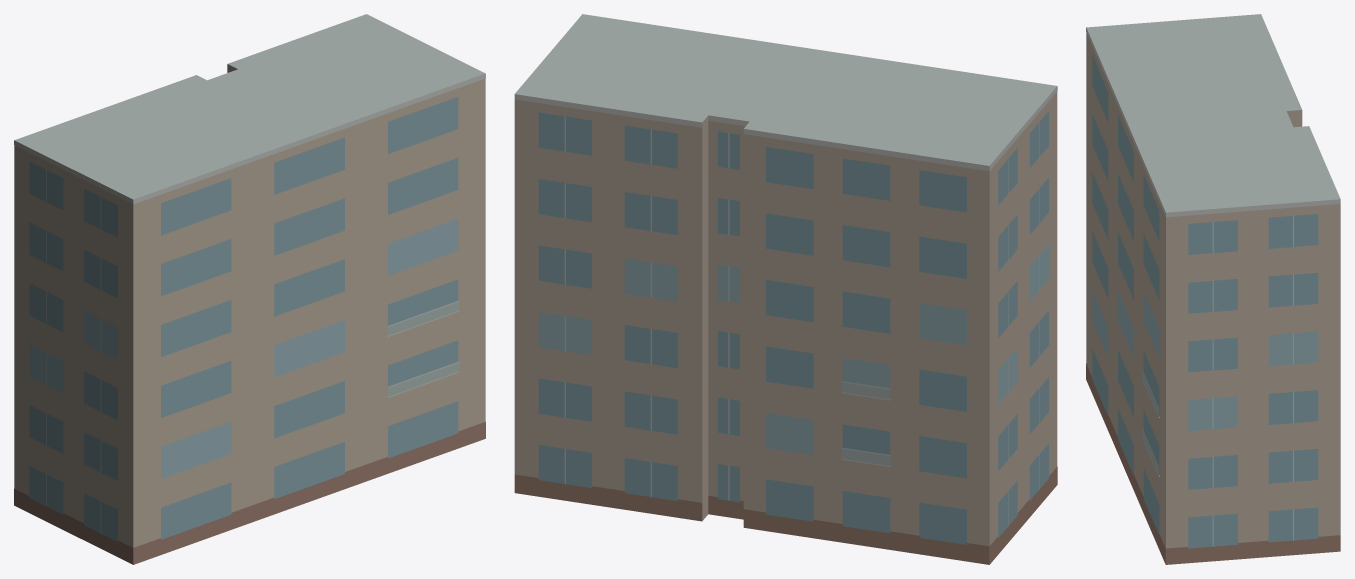
File: survey-upis-32971588.glb
The picture shows the model from 3 angles, left to right: view 1: azimuth 30°, elevation 25°; view 2: azimuth 150°, elevation 25°; view 3: azimuth 270°, elevation 25°; orthographic projection. The views are drawn at different scales.
Visible parts, largest first — view 1: survey-upis-32971588.tmp; view 2: survey-upis-32971588.tmp; view 3: survey-upis-32971588.tmp.
Part boxes in pixels (x1,y1,x2,y2): survey-upis-32971588.tmp: (14,14,485,564); survey-upis-32971588.tmp: (514,14,1057,564); survey-upis-32971588.tmp: (1086,14,1340,564).
Bounding box in the file's own units: 22.14 × 18.3 × 11.99.
